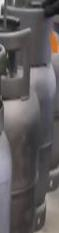cylinder: (1, 1, 59, 233)
